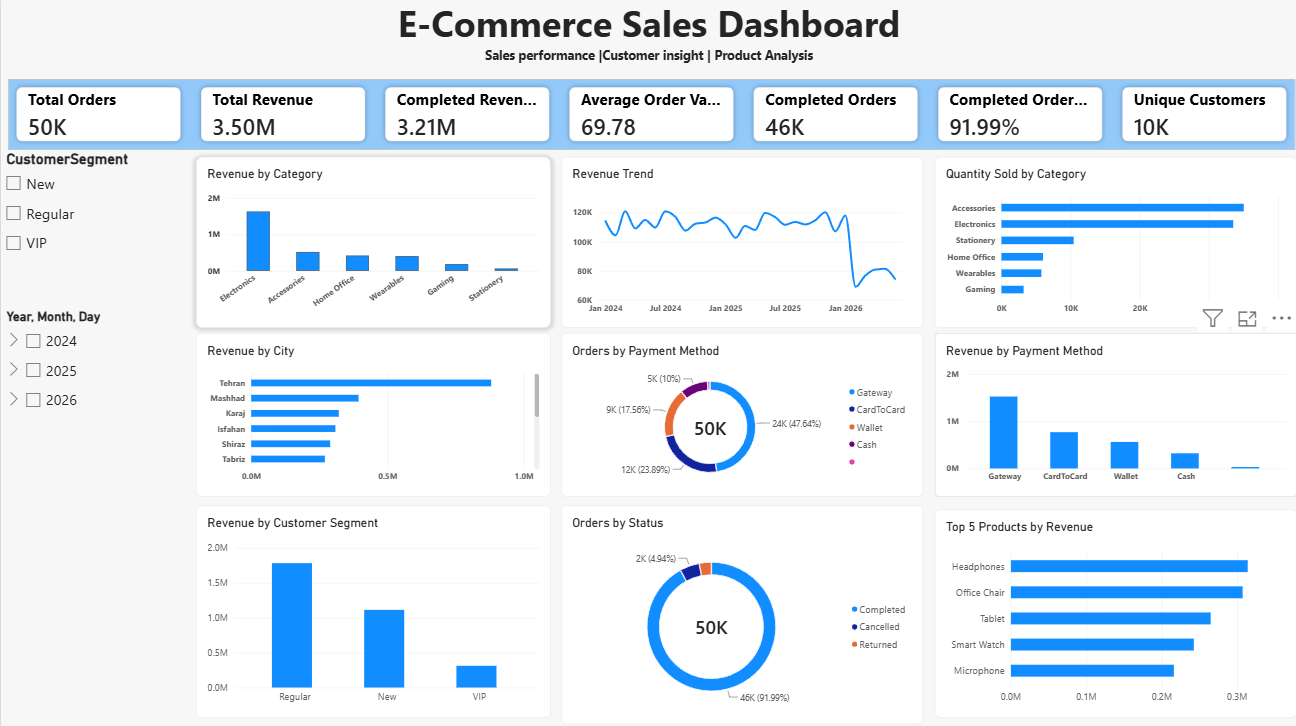

The page's visual inventory and layout, read from the dashboard file:
{"tool":"powerbi","page":{"name":"Page 1","canvas":[1920,1080],"ordinal":0},"visuals":[{"type":"cardVisual","fields":{"Data":["orders_clean.Total_orders","orders_clean.Total_revenue","orders_clean.Completed_revenue","orders_clean.AOV","orders_clean.completed_orders","orders_clean.complete_order_rate","orders_clean.Unique_customer"]},"box":[10.9,121.2,1909.2,105],"z":0},{"type":"clusteredColumnChart","title":"Revenue by Category","fields":{"Category":["Products_clean.Category"],"Y":["orders_clean.Completed_revenue"]},"box":[288.7,235.4,526,253.8],"z":1000},{"type":"clusteredColumnChart","title":"Revenue by Customer Segment","fields":{"Category":["customers_clean.CustomerSegment"],"Y":["orders_clean.Completed_revenue"]},"box":[288.7,752.2,526,314.5],"z":2000},{"type":"lineChart","title":"Revenue Trend","fields":{"Category":["orders_clean.OrderDate.Variation.Date Hierarchy.Year","orders_clean.OrderDate.Variation.Date Hierarchy.Month"],"Y":["orders_clean.Completed_revenue"]},"box":[829.4,235.4,537,253.8],"z":3000},{"type":"donutChart","title":"Orders by Status","fields":{"Category":["orders_clean.Status"],"Y":["orders_clean.Total_orders"]},"box":[829.4,752.2,537,323.7],"z":4000},{"type":"clusteredBarChart","title":"Quantity Sold by Category","fields":{"Category":["Products_clean.Category"],"Y":["Sum(orders_clean.Quantity)"]},"box":[1383,235.4,537,253.8],"z":5000},{"type":"clusteredBarChart","title":"Top 5 Products by Revenue","fields":{"Category":["Products_clean.ProductName"],"Y":["orders_clean.Completed_revenue"]},"box":[1383,757.7,537,309],"z":6000},{"type":"columnChart","title":"Revenue by Payment Method","fields":{"Category":["orders_clean.PaymentMethod"],"Y":["orders_clean.Completed_revenue"]},"box":[1382.6,495.8,537.5,242.5],"z":7000},{"type":"slicer","fields":{"Values":["customers_clean.CustomerSegment"]},"box":[0,226.2,222.6,208.1],"z":8000},{"type":"slicer","fields":{"Values":["orders_clean.OrderDate.Variation.Date Hierarchy.Year","orders_clean.OrderDate.Variation.Date Hierarchy.Month","orders_clean.OrderDate.Variation.Date Hierarchy.Day"]},"box":[0,461.5,179.2,215.3],"z":9000},{"type":"donutChart","title":"Orders by Payment Method","fields":{"Category":["orders_clean.PaymentMethod"],"Y":["orders_clean.Total_orders"]},"box":[829.4,496.6,537,242.8],"z":10000},{"type":"clusteredBarChart","title":"Revenue by City","fields":{"Category":["customers_clean.City"],"Y":["orders_clean.Completed_revenue"]},"box":[288.7,496.6,526,242.8],"z":11000},{"type":"textbox","box":[0,0,1920.1,103.2],"z":12000}]}

Visuals, with their boxes in screenshot pixels (x1, y1, x2, y2), scaled from the page's 1920x1080 canvas onto the 1296x726 screenshot:
cardVisual - orders_clean.Total_orders x orders_clean.Total_revenue: bbox=(7, 81, 1295, 152)
"Revenue by Category" clusteredColumnChart: bbox=(195, 158, 550, 329)
"Revenue by Customer Segment" clusteredColumnChart: bbox=(195, 506, 550, 717)
"Revenue Trend" lineChart: bbox=(560, 158, 922, 329)
"Orders by Status" donutChart: bbox=(560, 506, 922, 723)
"Quantity Sold by Category" clusteredBarChart: bbox=(934, 158, 1295, 329)
"Top 5 Products by Revenue" clusteredBarChart: bbox=(934, 509, 1295, 717)
"Revenue by Payment Method" columnChart: bbox=(933, 333, 1295, 496)
slicer - customers_clean.CustomerSegment: bbox=(0, 152, 150, 292)
slicer - orders_clean.OrderDate.Variation.Date Hierarchy.Year x orders_clean.OrderDate.Variation.Date Hierarchy.Month: bbox=(0, 310, 121, 455)
"Orders by Payment Method" donutChart: bbox=(560, 334, 922, 497)
"Revenue by City" clusteredBarChart: bbox=(195, 334, 550, 497)
textbox: bbox=(0, 0, 1295, 69)
